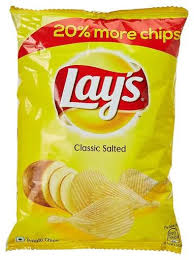lays-small: (13, 7, 184, 248)
